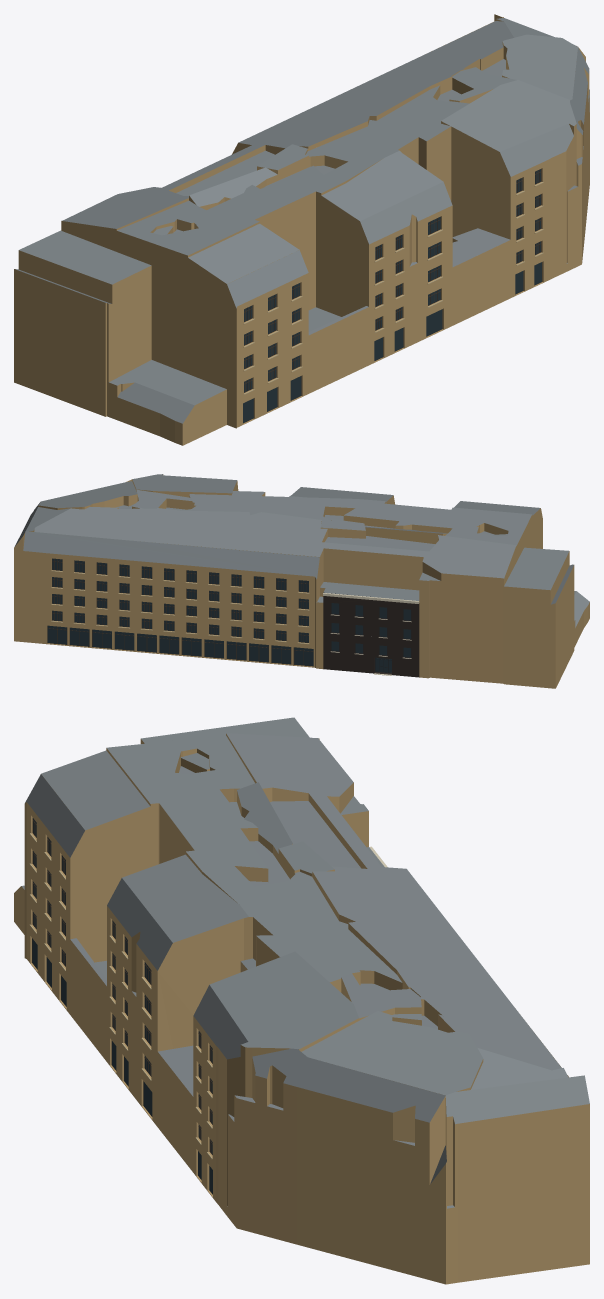
Rendered from recipe-large-spinozastraat-51-243487.glb.
3 renders of one model, top to bottom at view 1: azimuth 30°, elevation 25°; view 2: azimuth 150°, elevation 25°; view 3: azimuth 270°, elevation 25°, orthographic. The views are drawn at different scales.
Parts seen in each view (by area): view 1: spinozastraat-51-243487; view 2: spinozastraat-51-243487; view 3: spinozastraat-51-243487.
Boxes of the visible parts, <box> form: spinozastraat-51-243487: <box>14,14,589,445</box>; spinozastraat-51-243487: <box>14,474,589,688</box>; spinozastraat-51-243487: <box>14,717,589,1284</box>.
Size of the model in its own units: 92.07 by 21.75 by 55.76.
